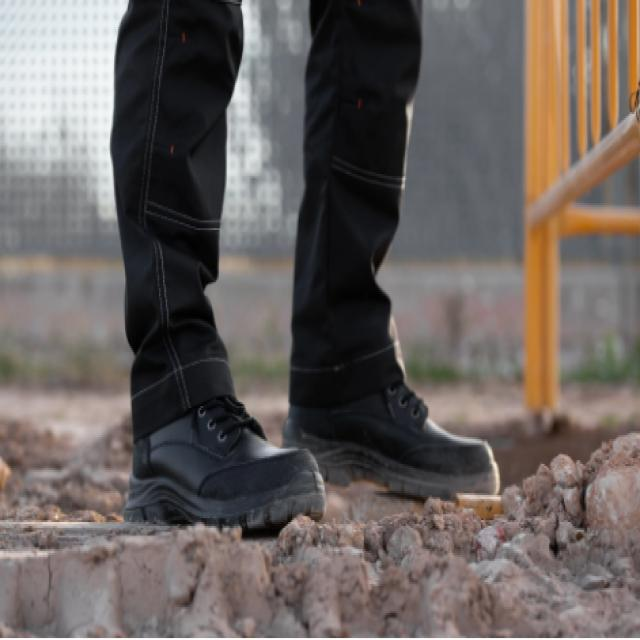boots: (122, 306, 503, 532)
